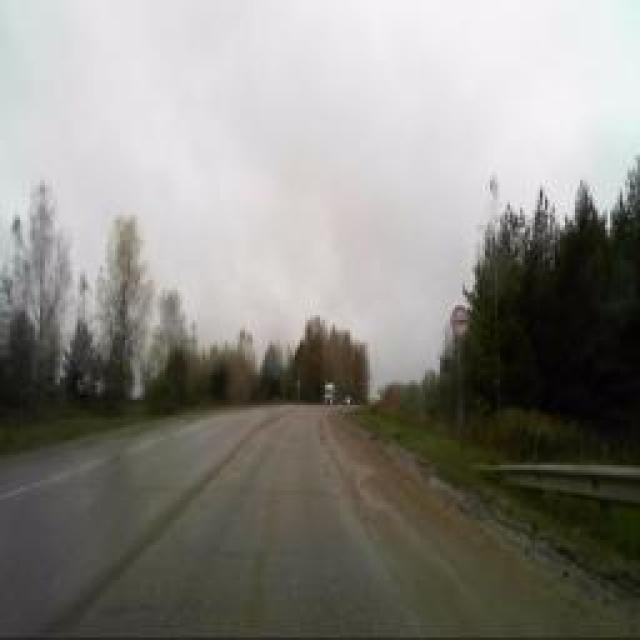sign: (450, 306, 470, 339)
